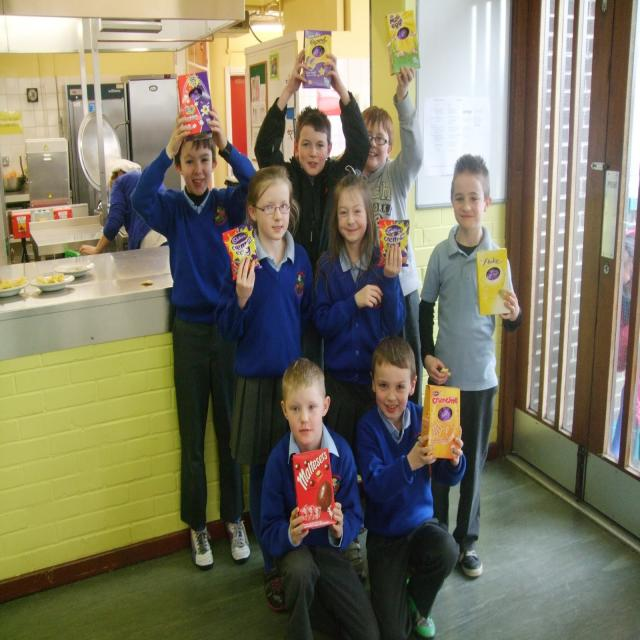body: (128, 66, 261, 575), (414, 148, 526, 582), (218, 163, 317, 614), (313, 174, 407, 574), (255, 352, 384, 640), (354, 332, 468, 639), (252, 44, 372, 272), (356, 61, 426, 410), (76, 157, 172, 257), (606, 229, 640, 476)
